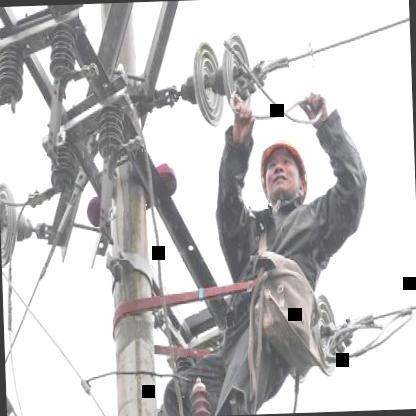helmet: (254, 120, 312, 214)
